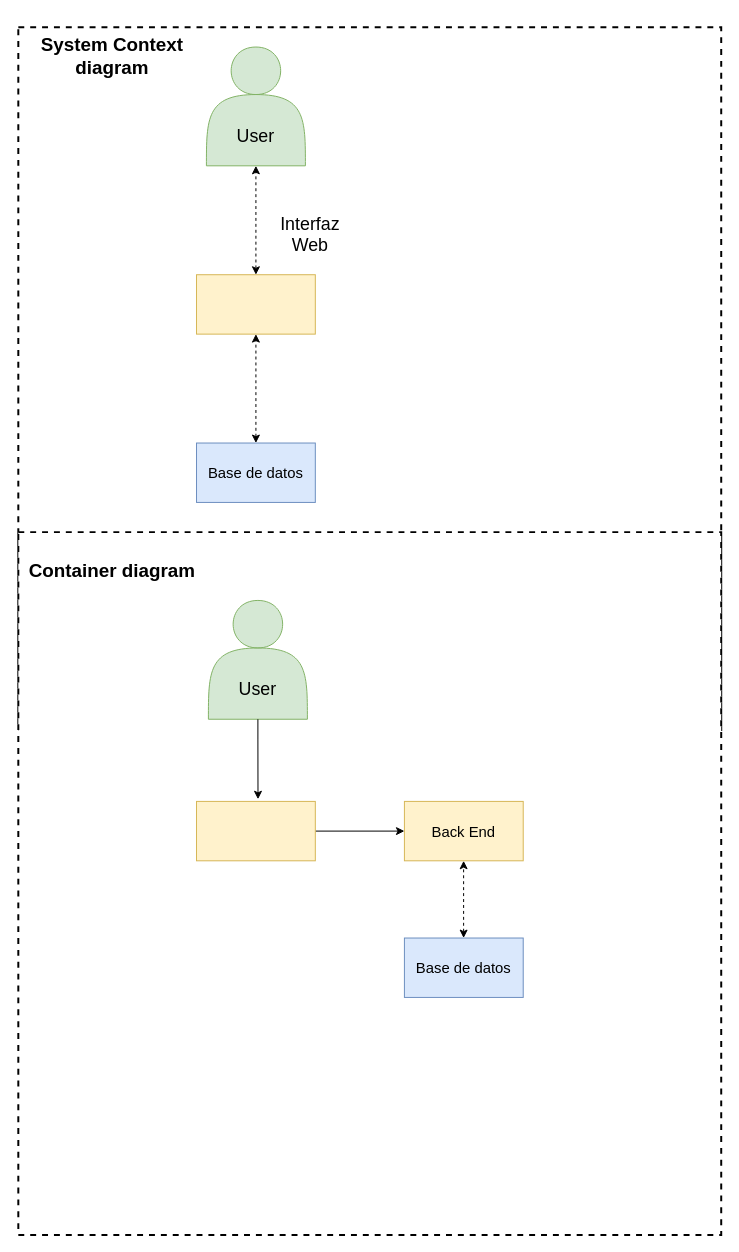
Some shapes in this 739 by 1252 pixel diagram are drawn without their labels. The box of each missing label's shape, as (x1, y1, x2, y2) in pixels:
App de control de gastos: (196, 274, 315, 334)
Front End: (196, 800, 315, 861)
